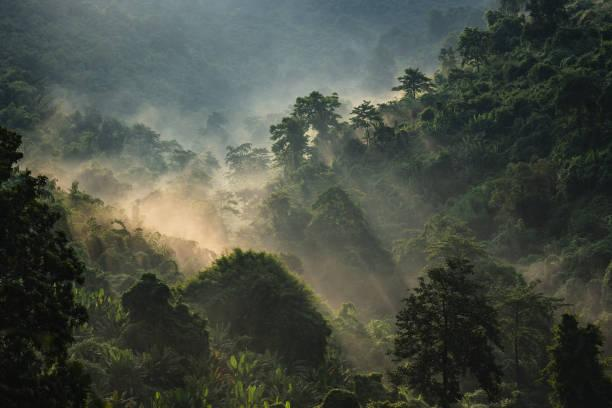Non_Gorille: (127, 32, 556, 384)
